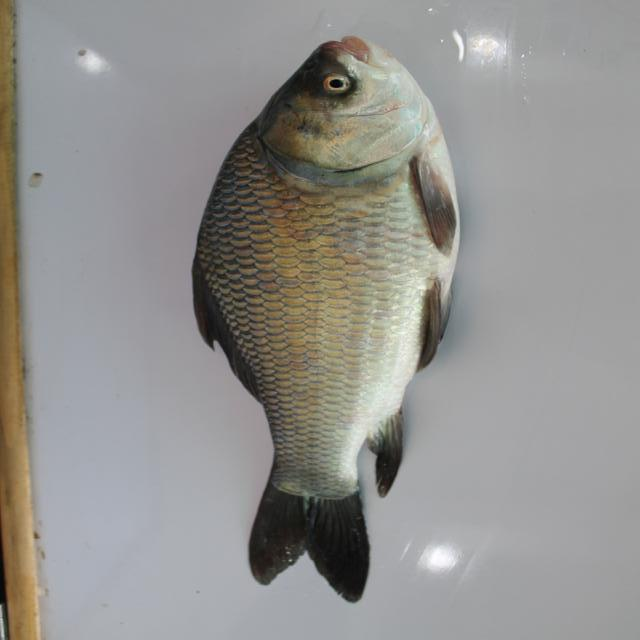Catla: (169, 30, 495, 611)
